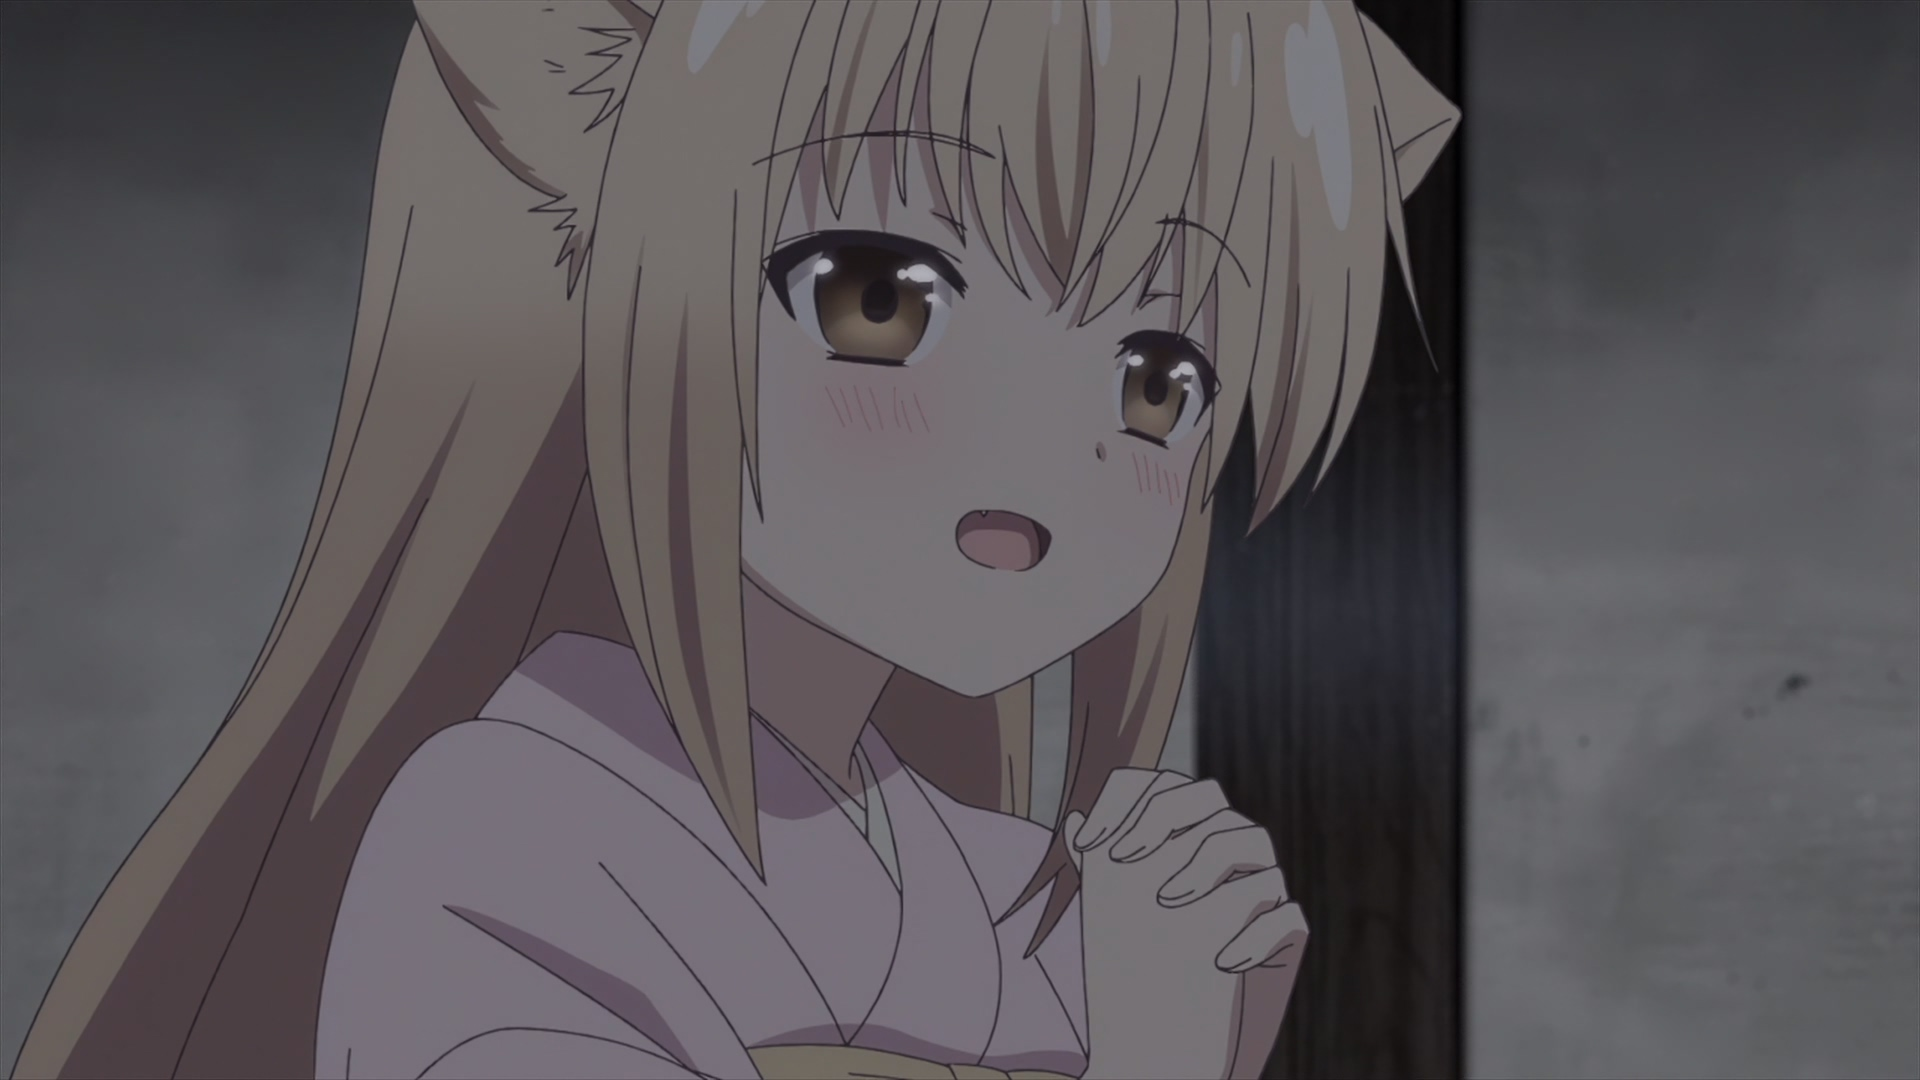柚: (13, 1, 1464, 1080)
